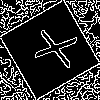X: (25, 25, 77, 69)
